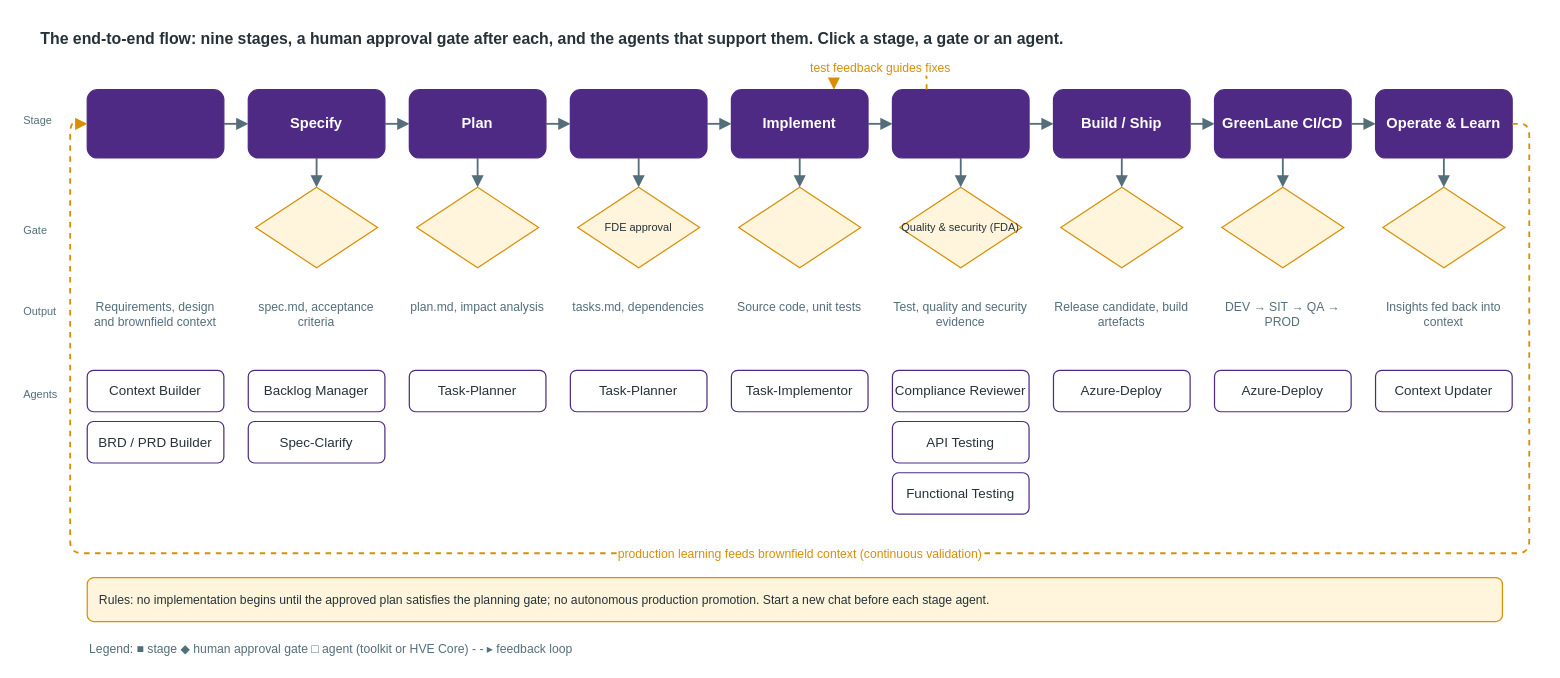
Some shapes in this 1560 by 678 pixel diagram are drawn without their labels. Here are the shapes that lost their labels. From the top down, the box of each, then its label:
(86, 88, 224, 158): Discover / Context
(569, 88, 707, 158): Tasks
(891, 88, 1029, 158): Test & Validate
(254, 186, 378, 268): PO approval
(415, 186, 539, 268): FDA approval
(737, 186, 861, 268): Code review (FDE)
(1060, 186, 1183, 268): Release readiness (FDE)
(1221, 186, 1344, 268): Deployment approval (PO/PM)
(1382, 186, 1505, 268): Ongoing review (Ops)
